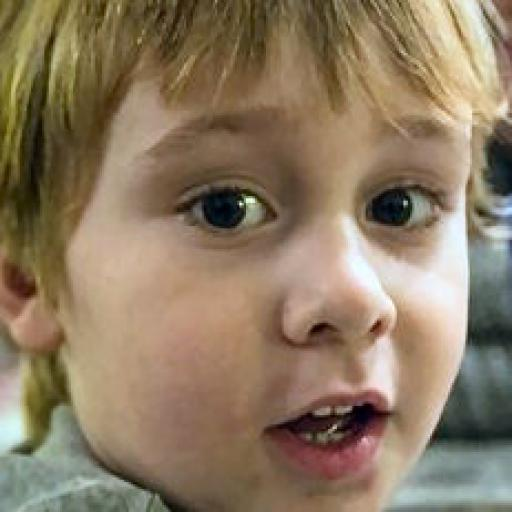Autism: (13, 5, 512, 498)
